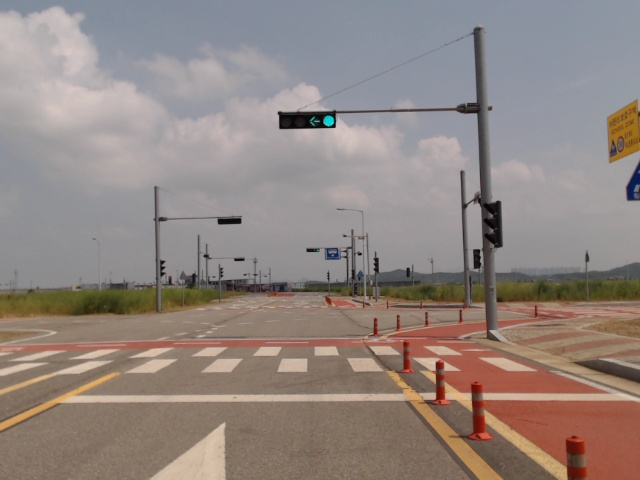all_green_4: (278, 110, 336, 130), (306, 248, 321, 253)
